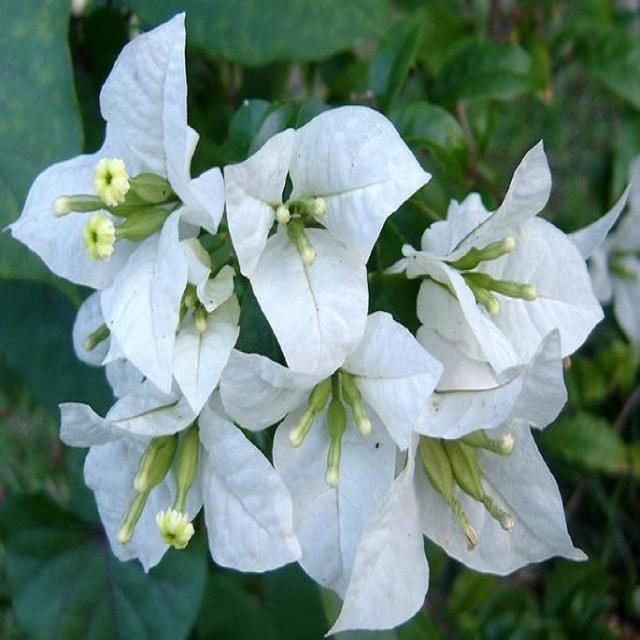bougainvillea: (0, 0, 237, 418), (398, 288, 612, 612), (67, 323, 316, 596), (401, 108, 618, 406), (268, 279, 444, 640), (216, 70, 416, 382)
